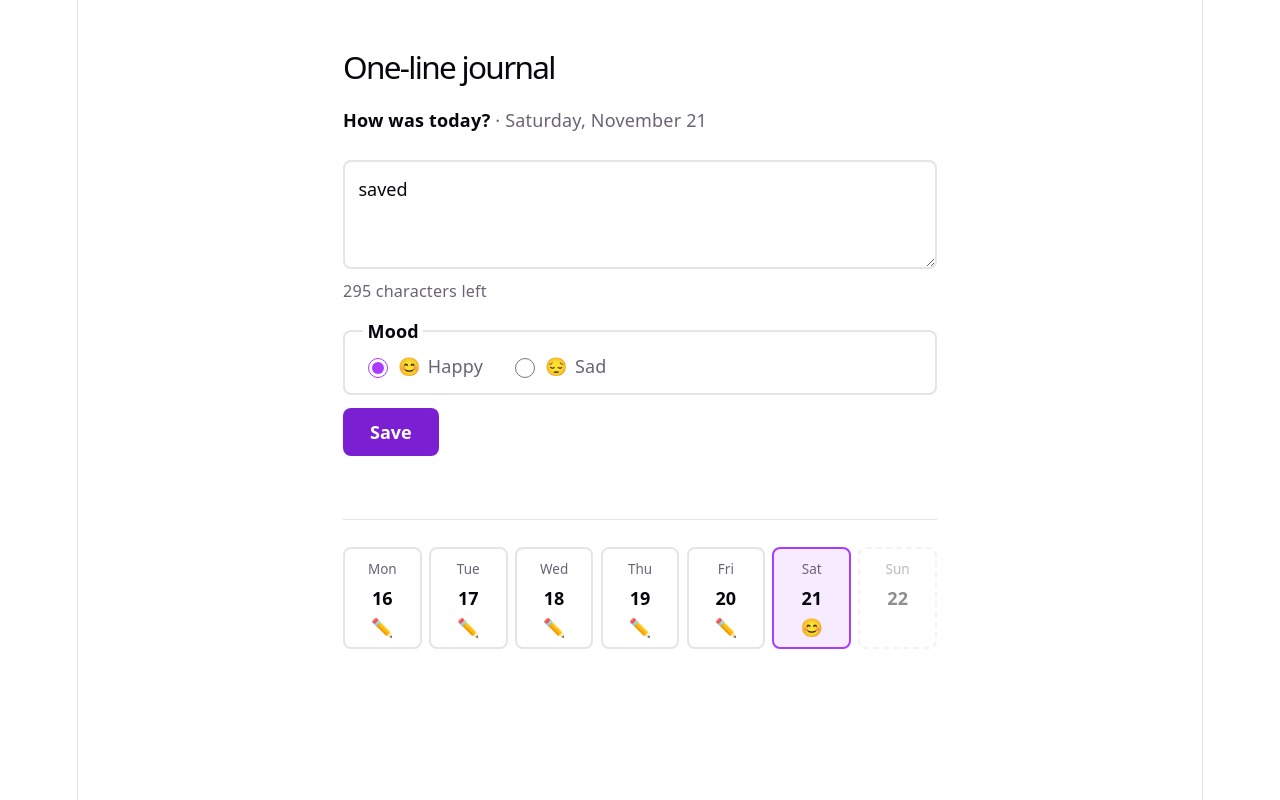
week strip: label and switch note › note when switching days drops unsaved changes › shows the note when only the mood was changed and not saved
Expected: the text box labelled "How was today? Saturday, November 21" is enabled, left=343, top=160, right=937, bottom=270
Click the radio button labelled "Sad": (525, 368) left=515, top=358, right=535, bottom=378
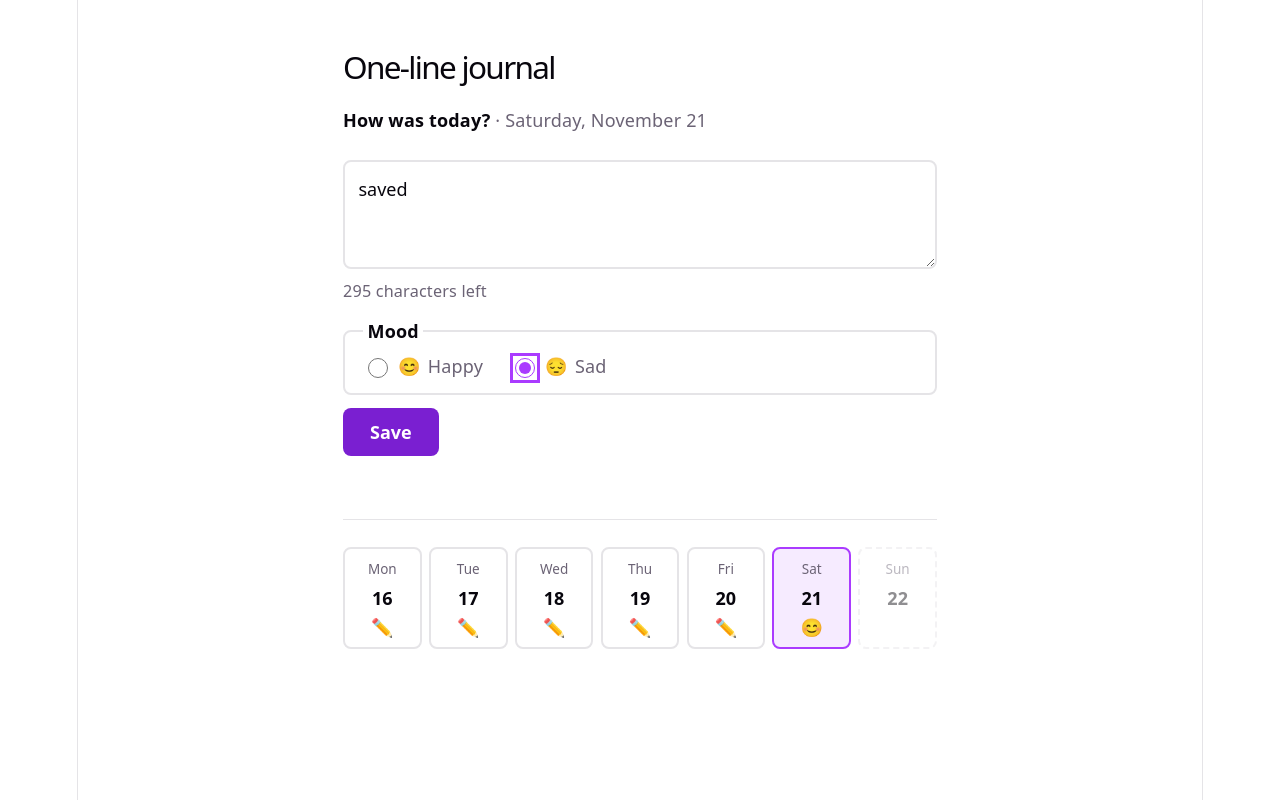
Click the button with aria-label "Tuesday": (468, 598) left=429, top=547, right=508, bottom=649
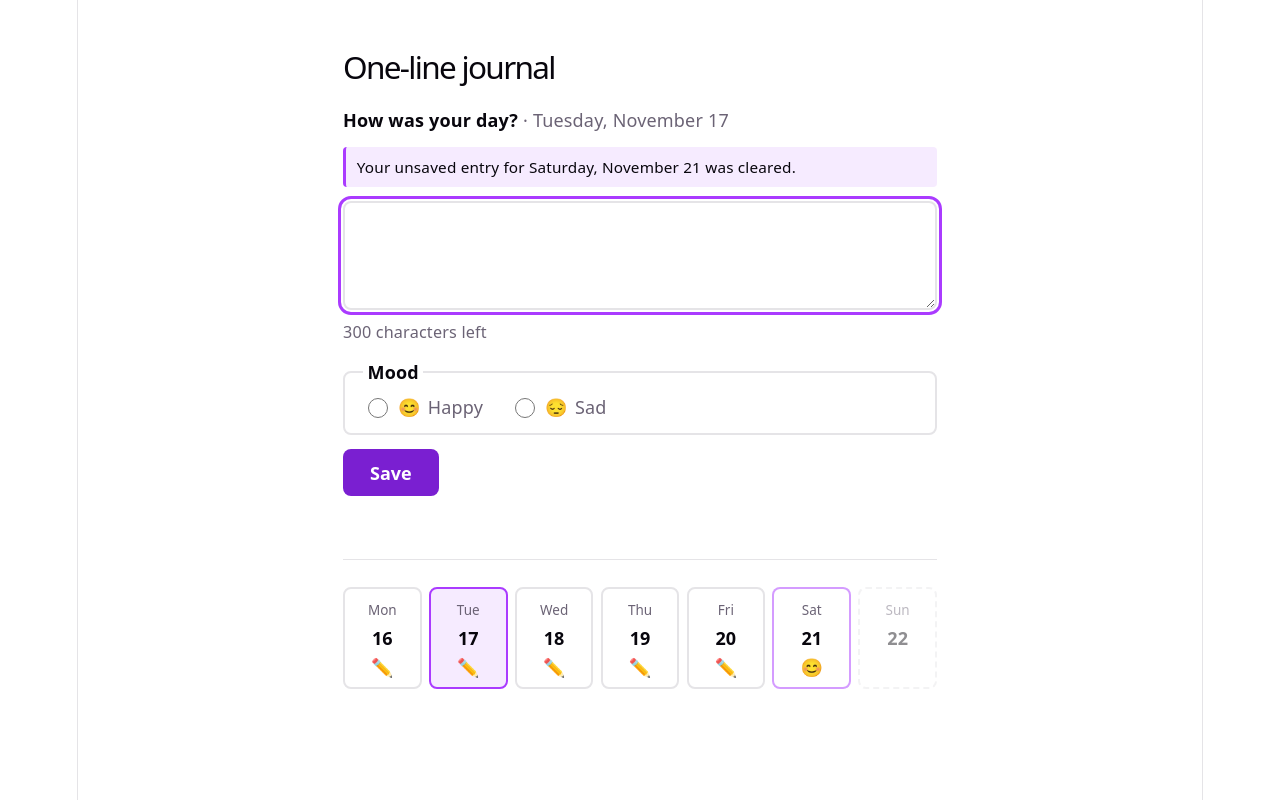
Expected: the text "Your unsaved entry for Saturday, November 21 was cleared." is shown, left=343, top=147, right=937, bottom=187
